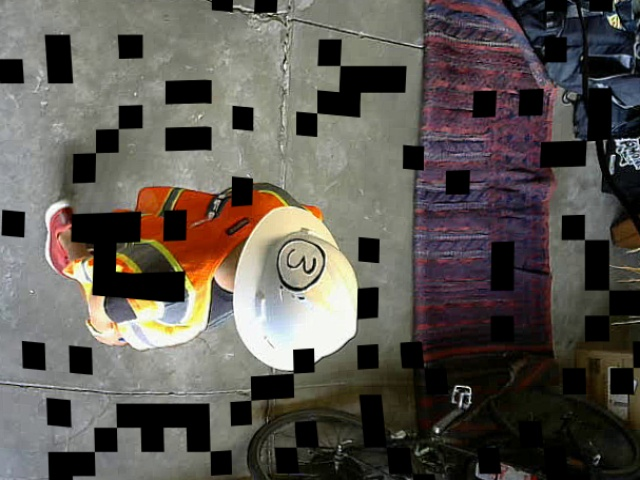three: (275, 239, 326, 292)
